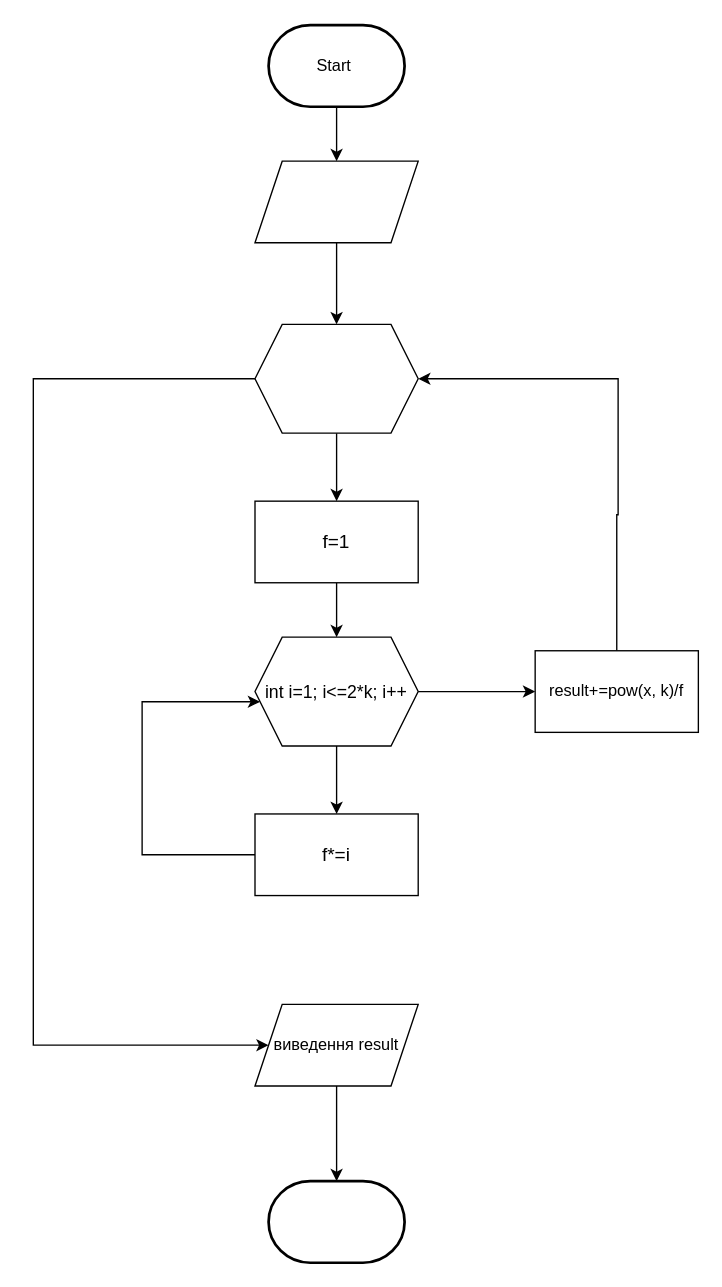
Image size: 722x1287. Some labels were removed from this diagram. Each missing label, with the centre of its shape:
End: [336,1221]
k=1;k<=10;k++: [336,378]
введення x: [336,201]
